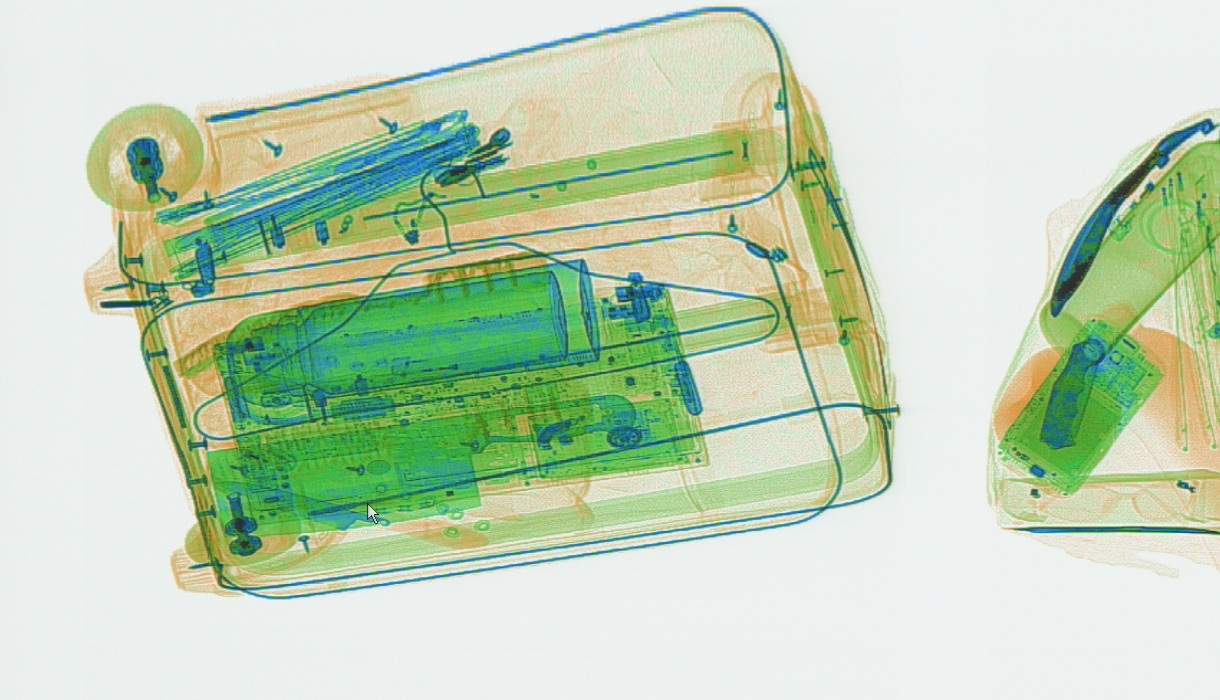knife: (204, 394, 637, 539), (200, 476, 489, 551), (1039, 320, 1108, 451)
